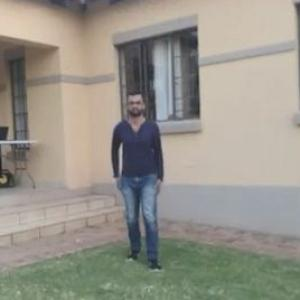follow: (106, 80, 164, 276)
